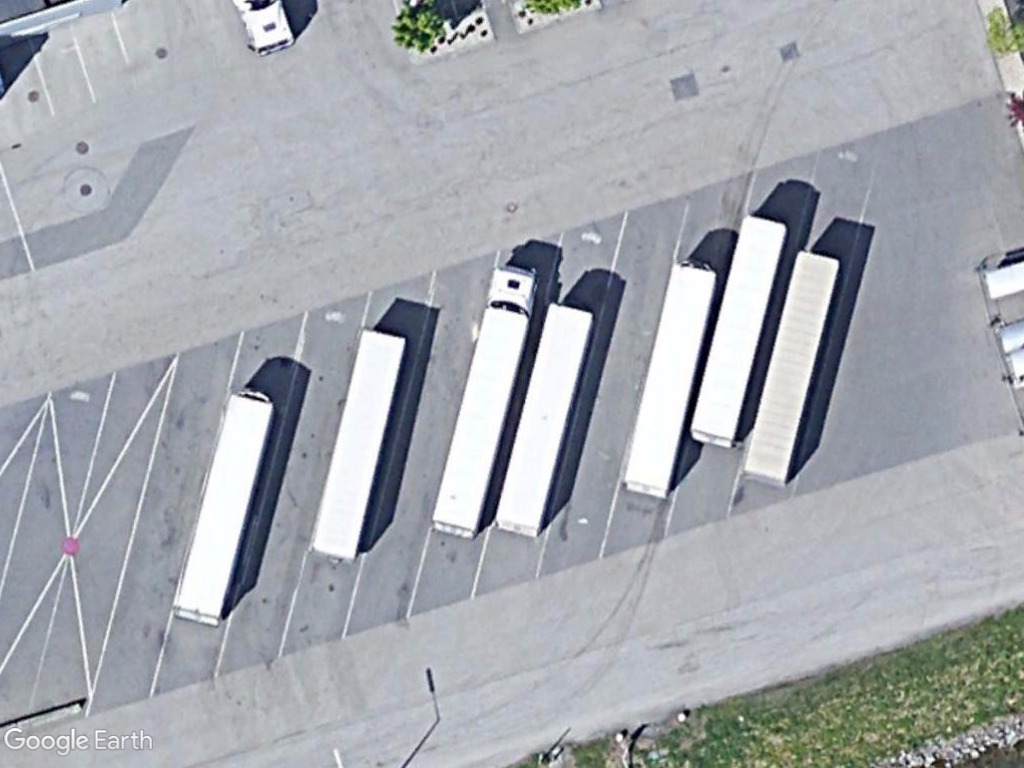longvehicle: (421, 261, 545, 545)
